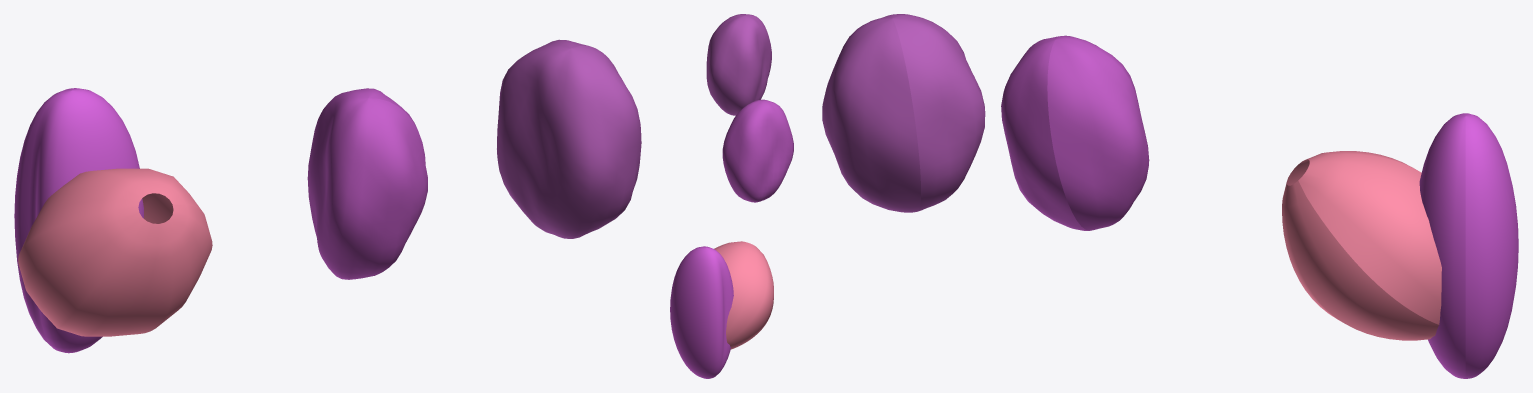
File: urogenital.glb
3 views of the same model, side by side, from view 1: azimuth 30°, elevation 25°; view 2: azimuth 150°, elevation 25°; view 3: azimuth 270°, elevation 25° (orthographic). The views are drawn at different scales.
Parts seen in each view (by area): view 1: Mesh_Bovine_Uterus_Carunculae, Mesh_Bovine_RenDexter, Mesh_Bovine_RenSinister, Mesh_Bovine_VesicaUrinaria; view 2: Mesh_Bovine_VesicaUrinaria, Mesh_Bovine_RenSinister, Mesh_Bovine_RenDexter, Mesh_Bovine_Uterus_Carunculae; view 3: Mesh_Bovine_RenDexter, Mesh_Bovine_Uterus_Carunculae, Mesh_Bovine_RenSinister, Mesh_Bovine_VesicaUrinaria.
Boxes of the visible parts, <box> form: Mesh_Bovine_Uterus_Carunculae: <box>18,168,212,336</box>; Mesh_Bovine_RenDexter: <box>497,39,641,238</box>; Mesh_Bovine_RenSinister: <box>307,88,427,279</box>; Mesh_Bovine_VesicaUrinaria: <box>14,88,143,353</box>; Mesh_Bovine_VesicaUrinaria: <box>670,246,733,378</box>; Mesh_Bovine_RenSinister: <box>722,99,793,202</box>; Mesh_Bovine_RenDexter: <box>706,14,771,115</box>; Mesh_Bovine_Uterus_Carunculae: <box>714,241,773,349</box>; Mesh_Bovine_RenDexter: <box>822,14,985,212</box>; Mesh_Bovine_Uterus_Carunculae: <box>1282,151,1441,340</box>; Mesh_Bovine_RenSinister: <box>1001,35,1149,230</box>; Mesh_Bovine_VesicaUrinaria: <box>1419,113,1518,378</box>.
Size of the model in its own units: 0.4774 by 0.5854 by 0.8048.
